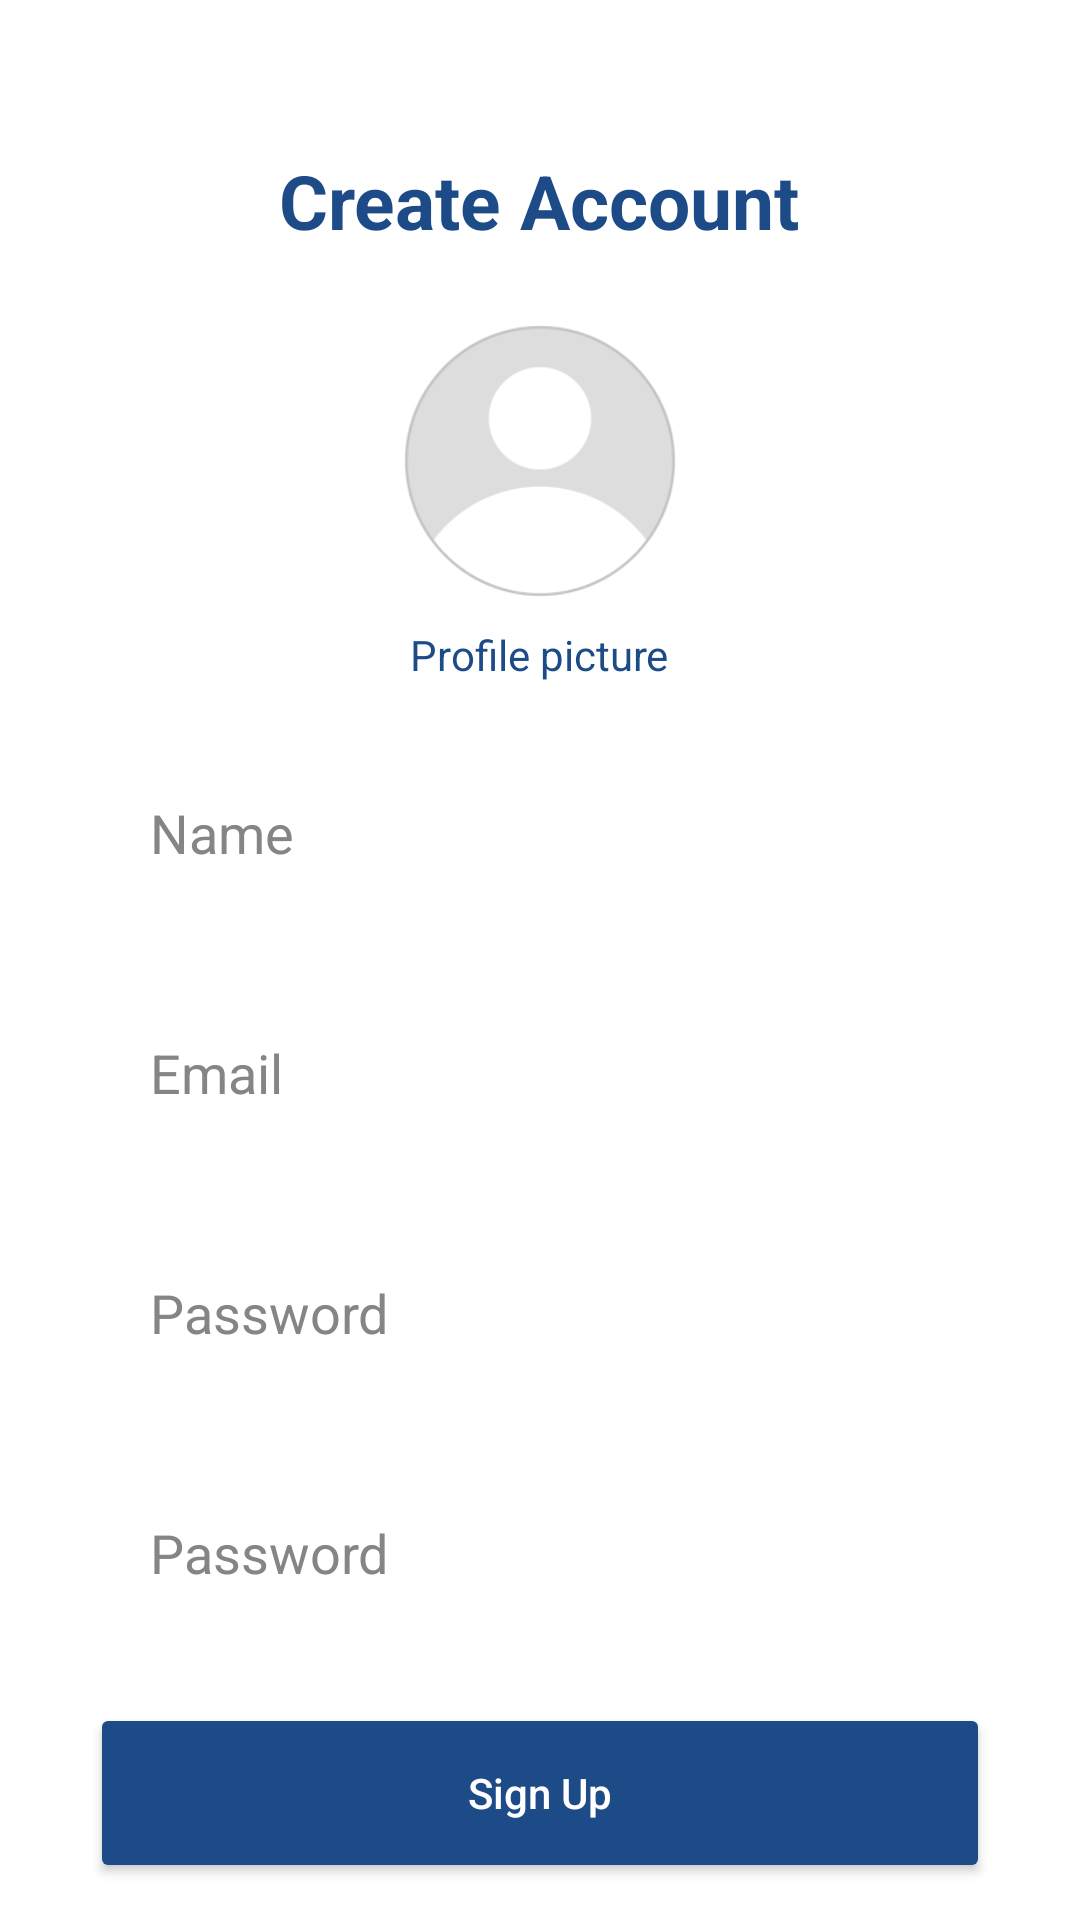

Where to tap for icons on this 1080px x 1920px app screen, as [x,y]:
user: [540,461]
